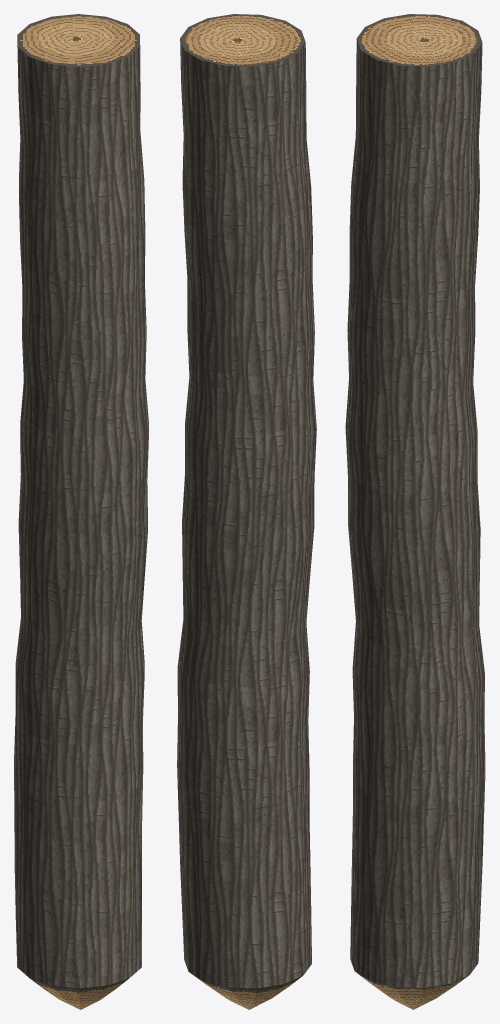
Rendered from environment_elm_log_v59.fbx.
The picture shows the model from 3 angles, left to right: view 1: azimuth 90°, elevation 25°; view 2: azimuth 150°, elevation 25°; view 3: azimuth 330°, elevation 25°; orthographic projection.
Visible parts, largest first — view 1: environment_elm_log_v59; view 2: environment_elm_log_v59; view 3: environment_elm_log_v59.
Boxes of the visible parts, x1,y1,x2,y2 form: environment_elm_log_v59: [14, 14, 148, 1009]; environment_elm_log_v59: [177, 14, 316, 1009]; environment_elm_log_v59: [345, 14, 485, 1009].
Bounding box in the file's own units: 129 × 1000 × 127.
2 materials, 2 textured.
